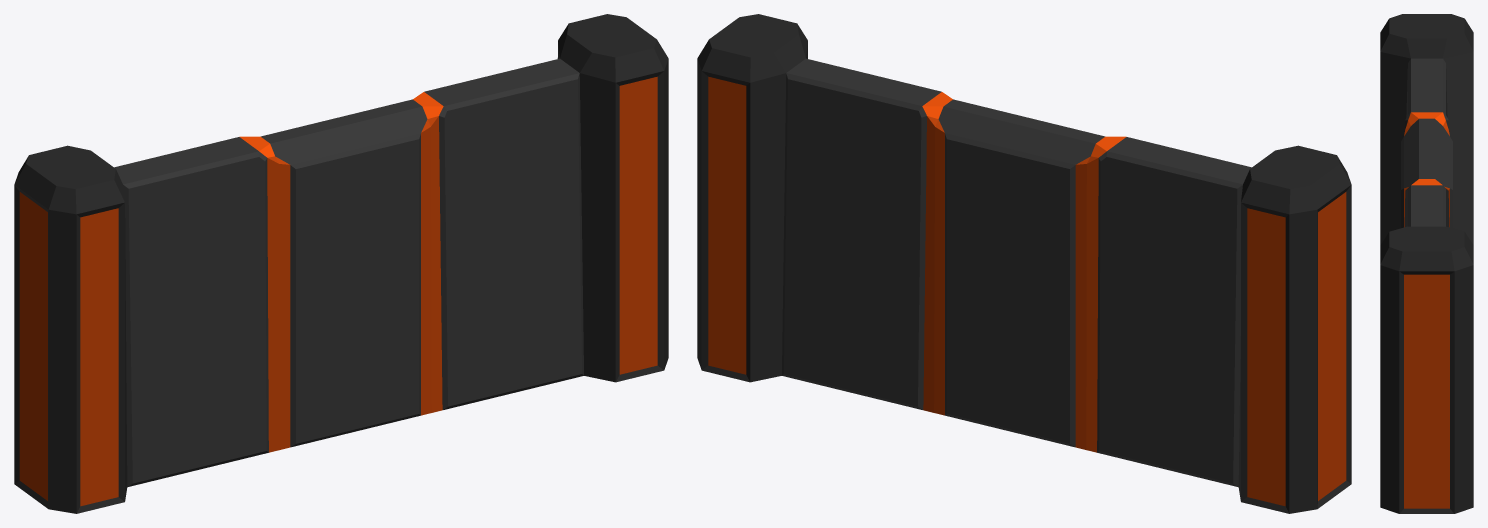
File: Wall01.fbx
The picture shows the model from 3 angles, left to right: view 1: azimuth 30°, elevation 25°; view 2: azimuth 150°, elevation 25°; view 3: azimuth 270°, elevation 25°; orthographic projection. The views are drawn at different scales.
Parts seen in each view (by area): view 1: Wall01; view 2: Wall01; view 3: Wall01.
Boxes of the visible parts, left/top/right/bottom form: Wall01: left=14, top=14, right=668, bottom=513; Wall01: left=697, top=14, right=1351, bottom=513; Wall01: left=1380, top=14, right=1473, bottom=513.
Size of the model in its own units: 612 by 301 by 98.78.
